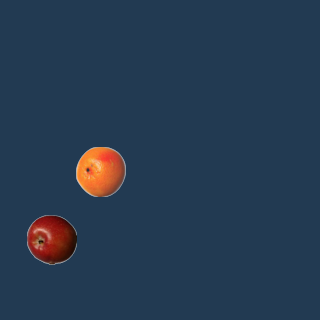Apple Braeburn: (26, 214, 76, 264)
Grapefruit Pink: (75, 146, 125, 196)
